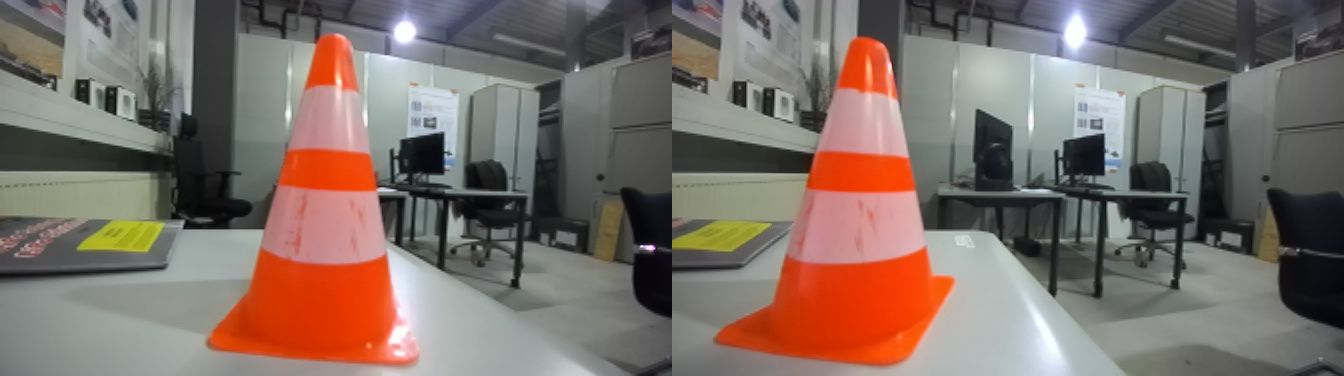cone: (722, 43, 966, 372), (212, 39, 426, 369)
